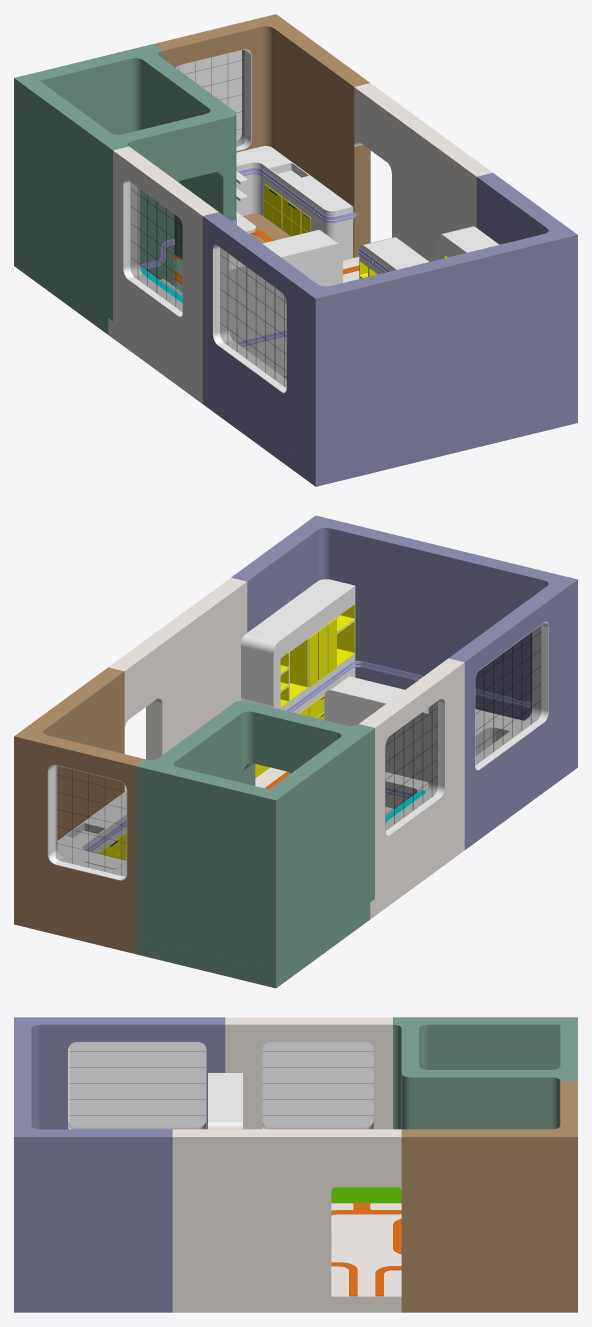
Rendered from vision typeB OptionA.glb.
3 renders of one model, top to bottom at view 1: azimuth 30°, elevation 25°; view 2: azimuth 150°, elevation 25°; view 3: azimuth 270°, elevation 25°, orthographic. The views are drawn at different scales.
Visible parts, largest first — view 1: 卧室墙, 厕所墙, 客厅墙, 厨房墙, 玻璃, 储物柜，木制或者整体性强的材质, 卧室地板, 窗框（金属）, 橱柜，木制或者整体性强的材质, 衣柜，木制或者整体性强的材质, 客厅地板, 厕所地板 (+3 smaller); view 2: 厕所墙, 卧室墙, 客厅墙, 厨房墙, 玻璃, 衣柜，木制或者整体性强的材质, 窗框（金属）, 储物柜，木制或者整体性强的材质, 柜门，区别于整体的柜子, 厕所地板, 厨房地板, 橱柜，木制或者整体性强的材质 (+5 smaller); view 3: 客厅墙, 卧室墙, 厨房墙, 玻璃, 厕所墙, 客厅地板, 厨房地板, 卧室地板, 储物柜，木制或者整体性强的材质, PATH, 窗框（金属）, 沙发硬边.
Part boxes in pixels (box(x1,y1,x2,y2)): 卧室墙: box(202, 173, 577, 469); 厕所墙: box(14, 44, 236, 320); 客厅墙: box(113, 83, 492, 386); 厨房墙: box(154, 14, 370, 257); 玻璃: box(130, 50, 286, 387); 储物柜，木制或者整体性强的材质: box(229, 230, 342, 376); 卧室地板: box(202, 375, 577, 486); 窗框（金属）: box(123, 49, 286, 393); 橱柜，木制或者整体性强的材质: box(236, 146, 353, 260); 衣柜，木制或者整体性强的材质: box(359, 226, 499, 278); 客厅地板: box(108, 257, 359, 403); 厕所地板: box(14, 249, 182, 334); 厕所墙: box(136, 700, 374, 971); 卧室墙: box(231, 515, 577, 832); 客厅墙: box(108, 577, 464, 898); 厨房墙: box(14, 667, 145, 937); 玻璃: box(56, 626, 540, 876); 衣柜，木制或者整体性强的材质: box(241, 579, 355, 775); 窗框（金属）: box(47, 622, 548, 880); 储物柜，木制或者整体性强的材质: box(240, 676, 428, 782); 柜门，区别于整体的柜子: box(98, 604, 354, 860); 厕所地板: box(136, 903, 370, 988); 厨房地板: box(14, 907, 136, 954); 橱柜，木制或者整体性强的材质: box(57, 791, 126, 872); 客厅墙: box(172, 1017, 401, 1296); 卧室墙: box(14, 1017, 225, 1296); 厨房墙: box(401, 1081, 577, 1296); 玻璃: box(69, 1042, 373, 1128); 厕所墙: box(393, 1017, 577, 1129); 客厅地板: box(172, 1203, 401, 1312); 厨房地板: box(401, 1296, 577, 1312); 卧室地板: box(14, 1296, 172, 1312); 储物柜，木制或者整体性强的材质: box(208, 1073, 242, 1129); PATH: box(331, 1203, 401, 1296); 窗框（金属）: box(68, 1042, 374, 1129); 沙发硬边: box(331, 1187, 401, 1203).
Bounding box in the file's own units: 4.82 × 3.3 × 9.6.
